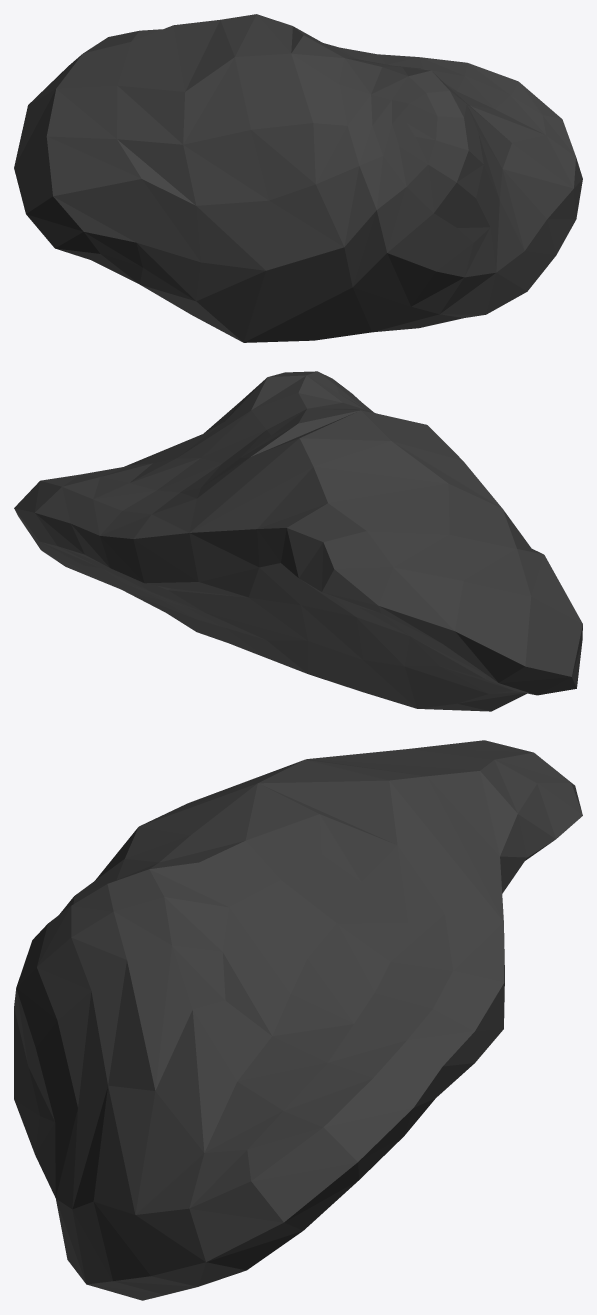
Rendered from RHL_tibia1.glb.
The picture shows the model from 3 angles, top to bottom: view 1: azimuth 30°, elevation 25°; view 2: azimuth 150°, elevation 25°; view 3: azimuth 270°, elevation 25°; orthographic projection. The views are drawn at different scales.
Parts seen in each view (by area): view 1: RHL_tibia1; view 2: RHL_tibia1; view 3: RHL_tibia1.
Part boxes in pixels (x1,y1,x2,y2): RHL_tibia1: [14, 14, 582, 342]; RHL_tibia1: [14, 371, 582, 711]; RHL_tibia1: [14, 740, 582, 1300].
Size of the model in its own units: 20.13 by 10.44 by 12.95.
Materials: 1 (1 with a texture image).
